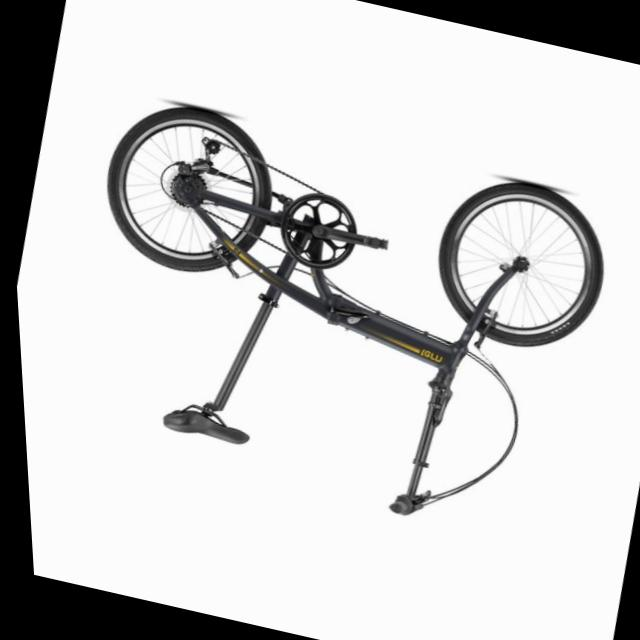folding-bike: (39, 88, 632, 551)
